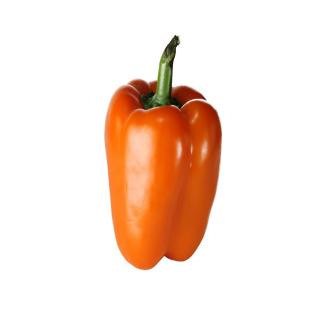Bell pepper: (104, 37, 222, 276)
